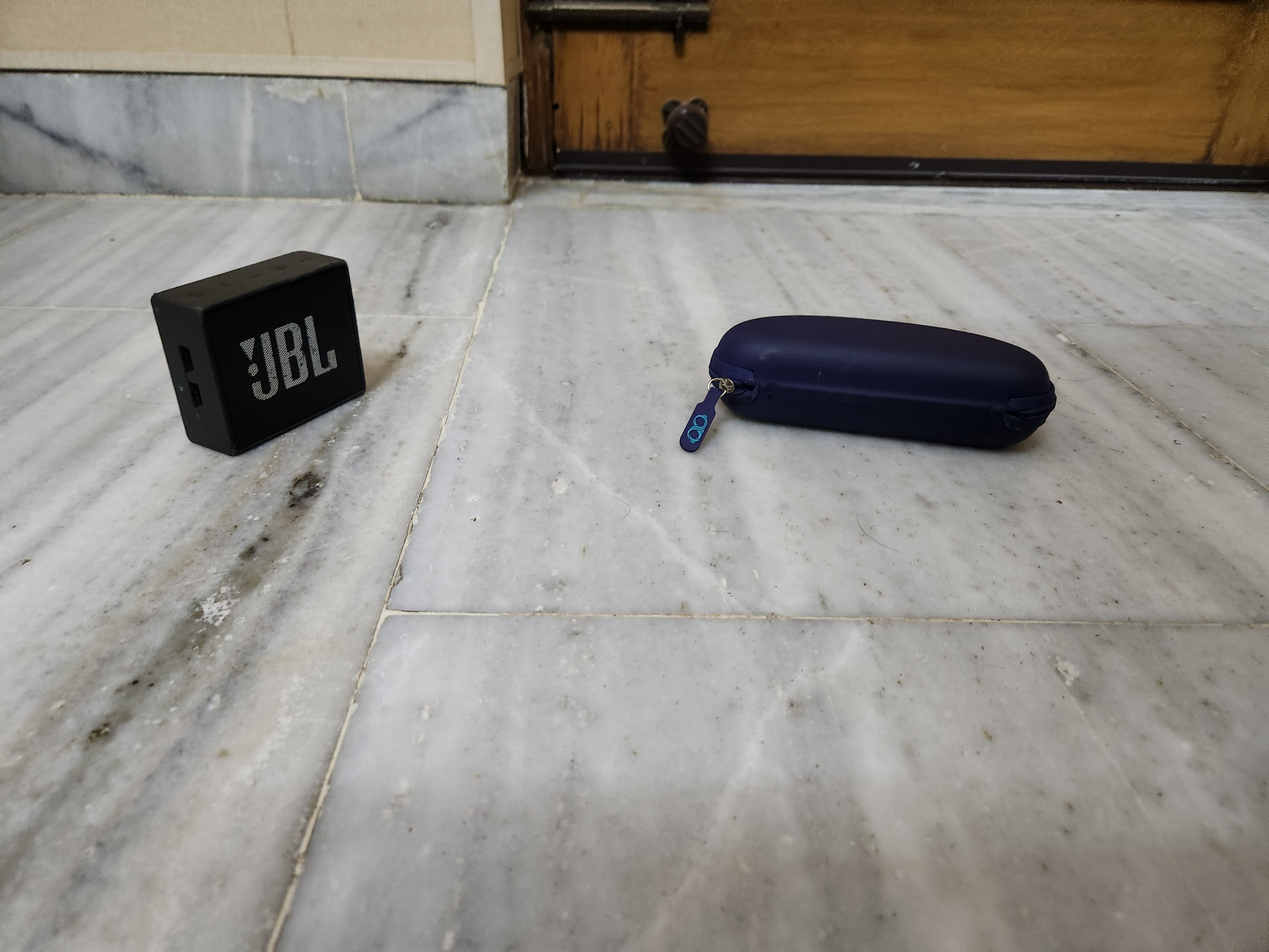case: (668, 307, 1074, 464)
speaker: (141, 245, 381, 464)
